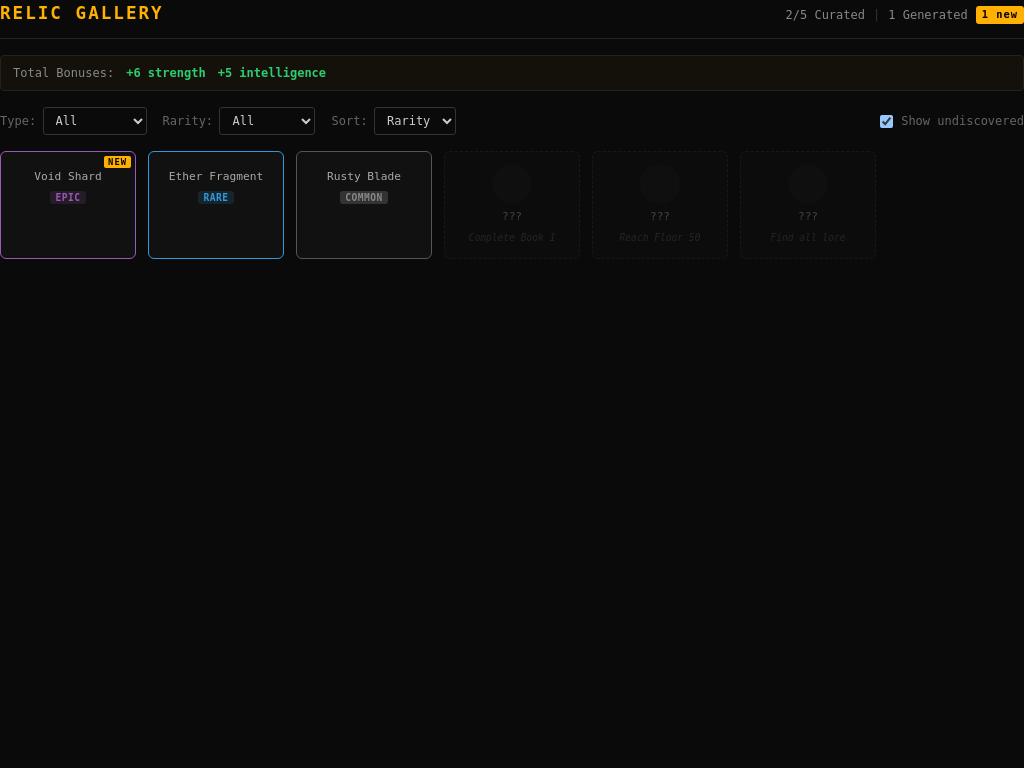
Test: RelicGallery Component › closes modal on close button click
Click the text "Void Shard" at (68, 178), box [34,170,102,185]
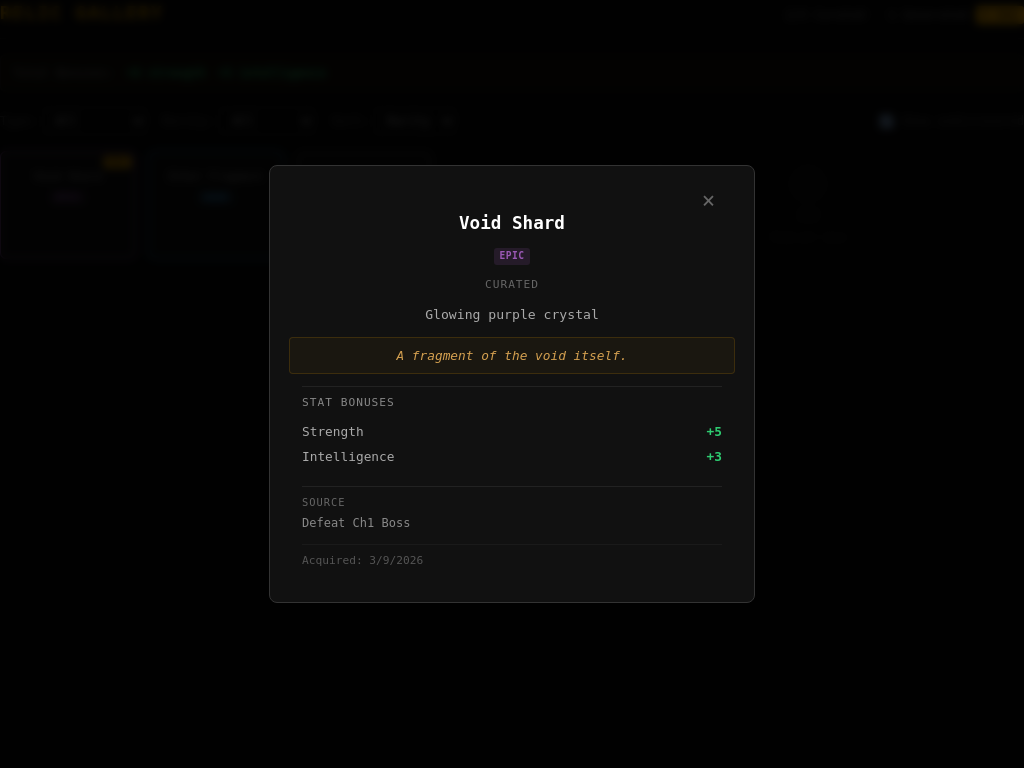
Expected: the text "A fragment of the void itself." is shown, [289,337,735,374]
Click the button "×" at (708, 200), box [675,174,742,227]
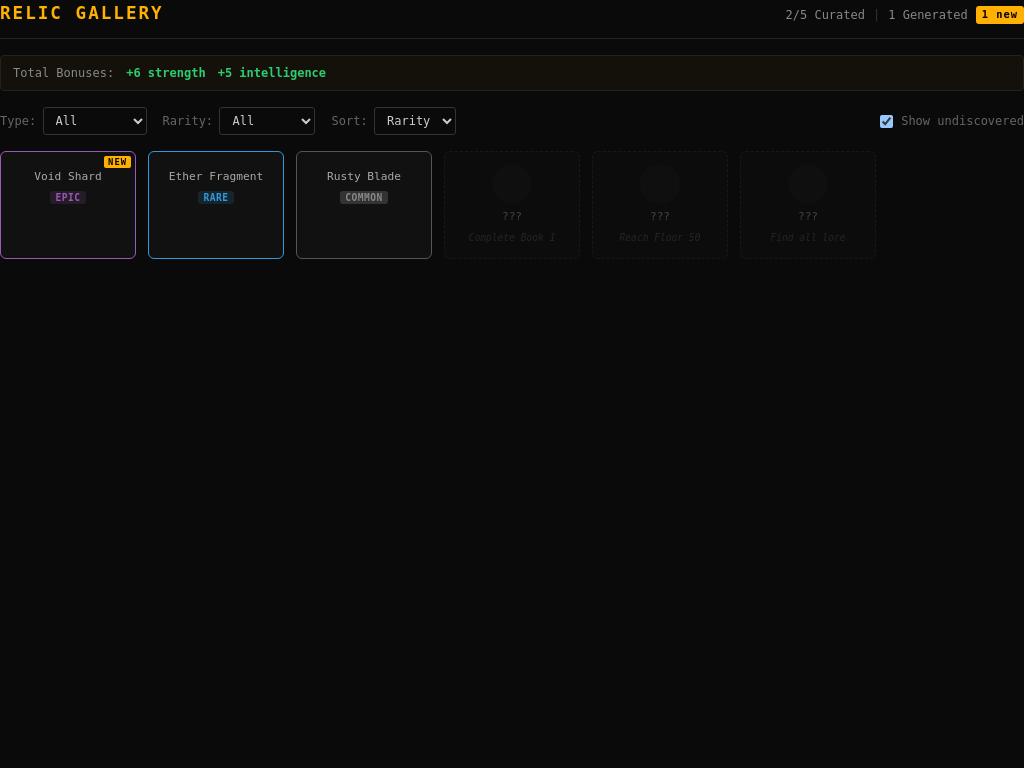
Expected: the text "A fragment of the void itself." is gone
